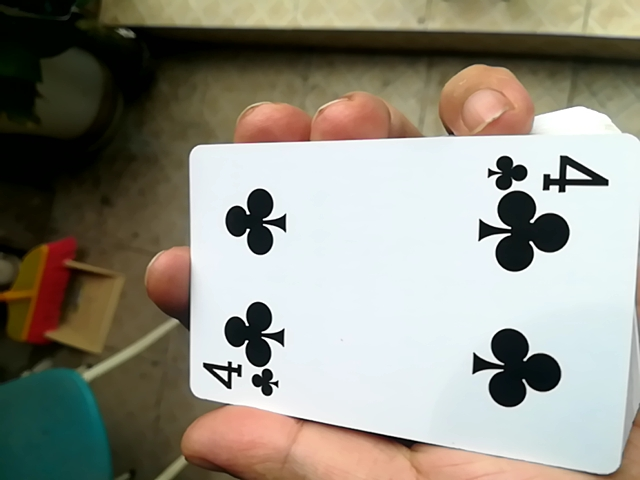mh 4: (180, 115, 635, 476)
